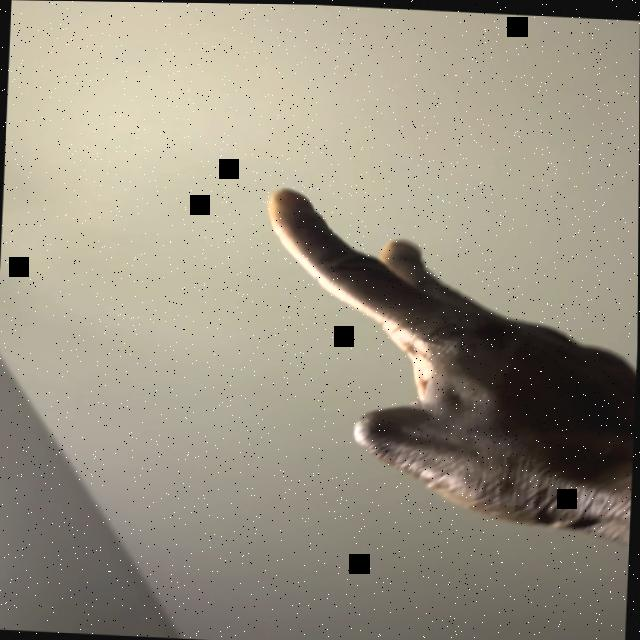Scissors: (252, 183, 639, 539)
